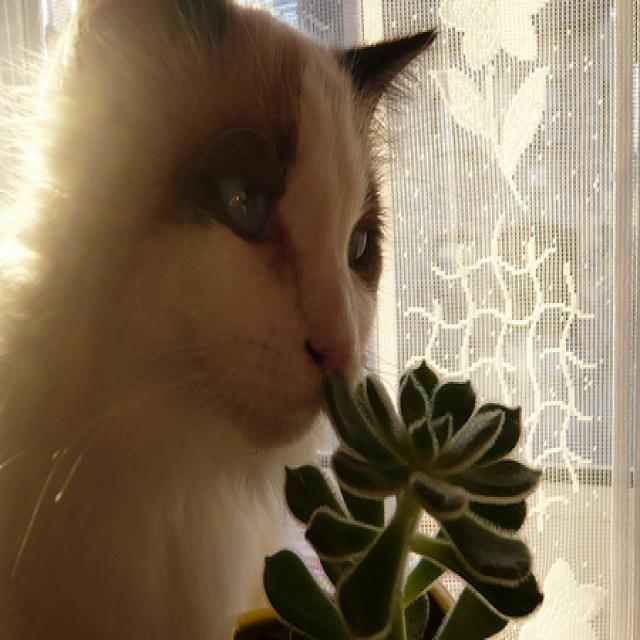Ragdoll: (0, 0, 445, 640)
